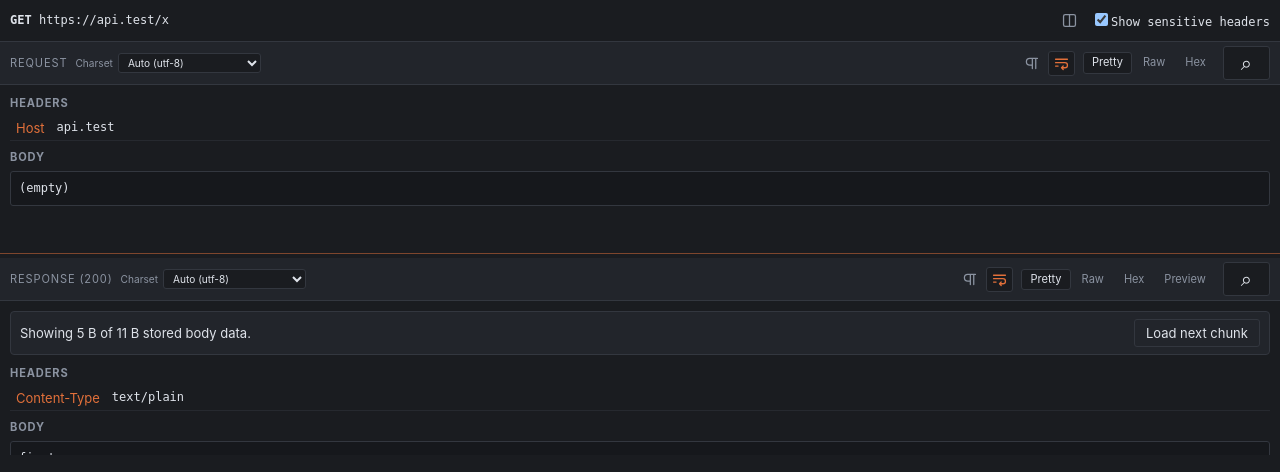
Test: FlowDetailView › loads a truncated body one bounded chunk at a time
The image size is (1280, 472).
What coordinates should you click on to do the following:
click the button "Load next chunk"
I would click on:
 (1197, 333)
Its box is x1=1134 y1=319 x2=1260 y2=347.
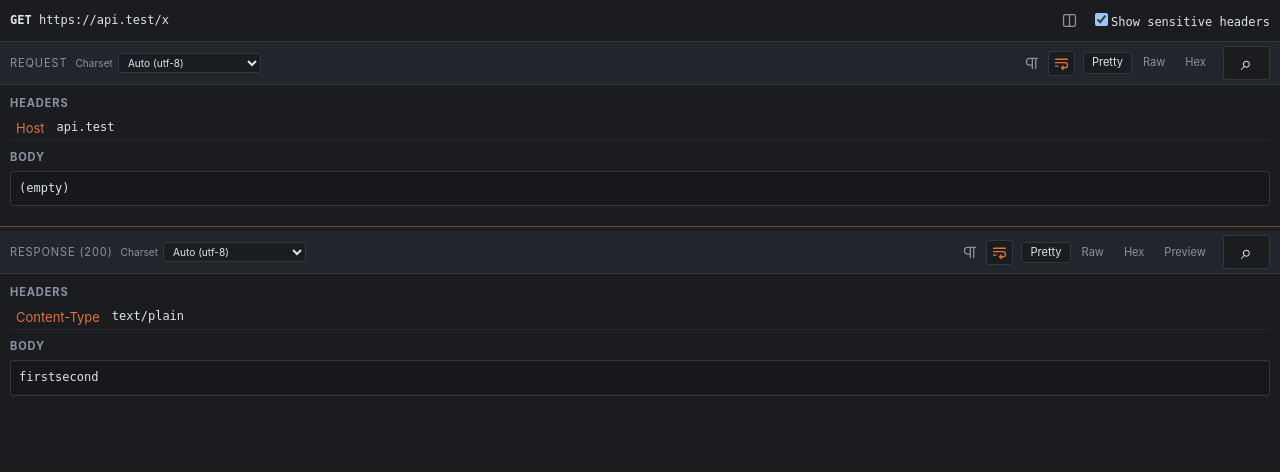
Now the text "firstsecond" is shown, box x1=19 y1=370 x2=98 y2=384
Now the button "Load next chunk" is gone
